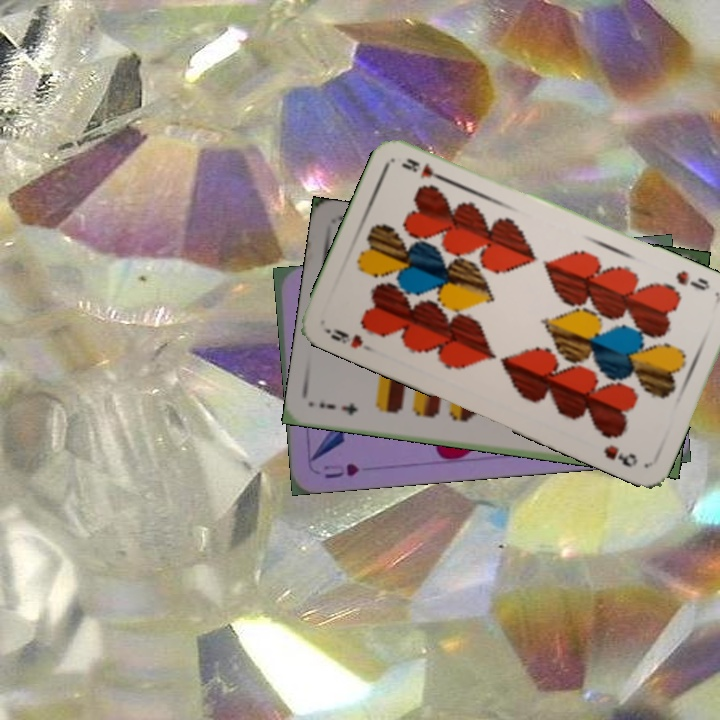E7: (315, 398, 360, 418)
H9: (322, 324, 378, 356), (672, 266, 713, 294)
HU: (319, 460, 361, 481)
